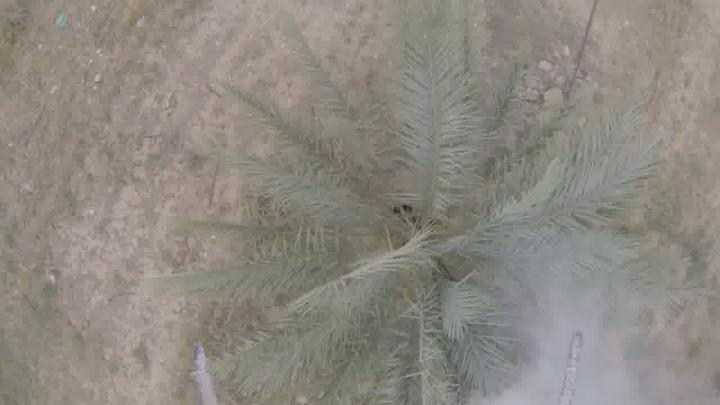Date-Palm-Crown: (284, 85, 572, 378)
